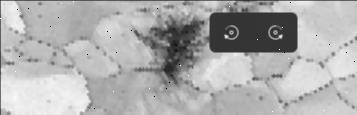good_void: (132, 7, 207, 95), (256, 92, 265, 101), (37, 12, 43, 20), (86, 54, 92, 61), (36, 1, 43, 7)
